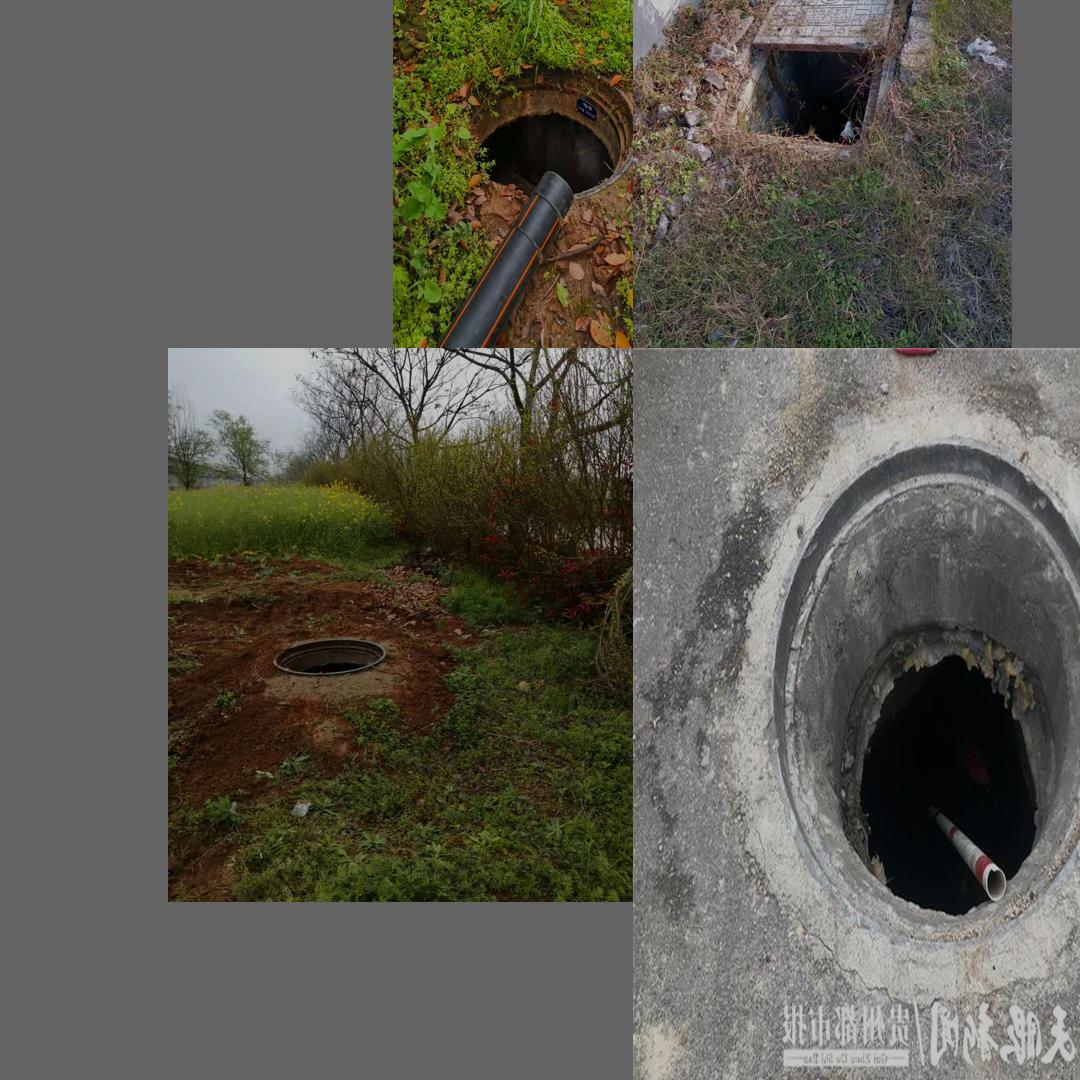lose: (736, 412, 1080, 969), (698, 0, 932, 178), (456, 64, 632, 202), (276, 631, 401, 679)
